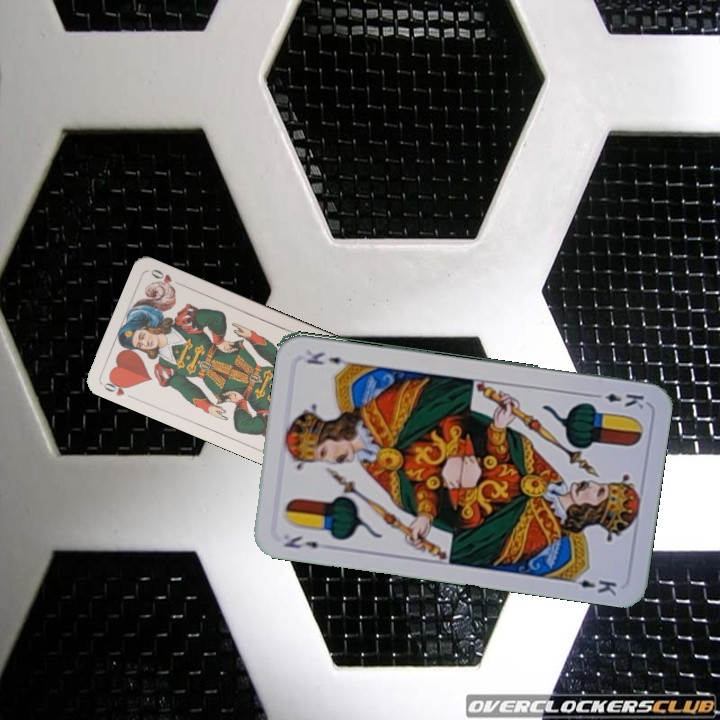EK: (588, 389, 647, 411), (280, 531, 321, 552)
HO: (99, 374, 137, 402)
